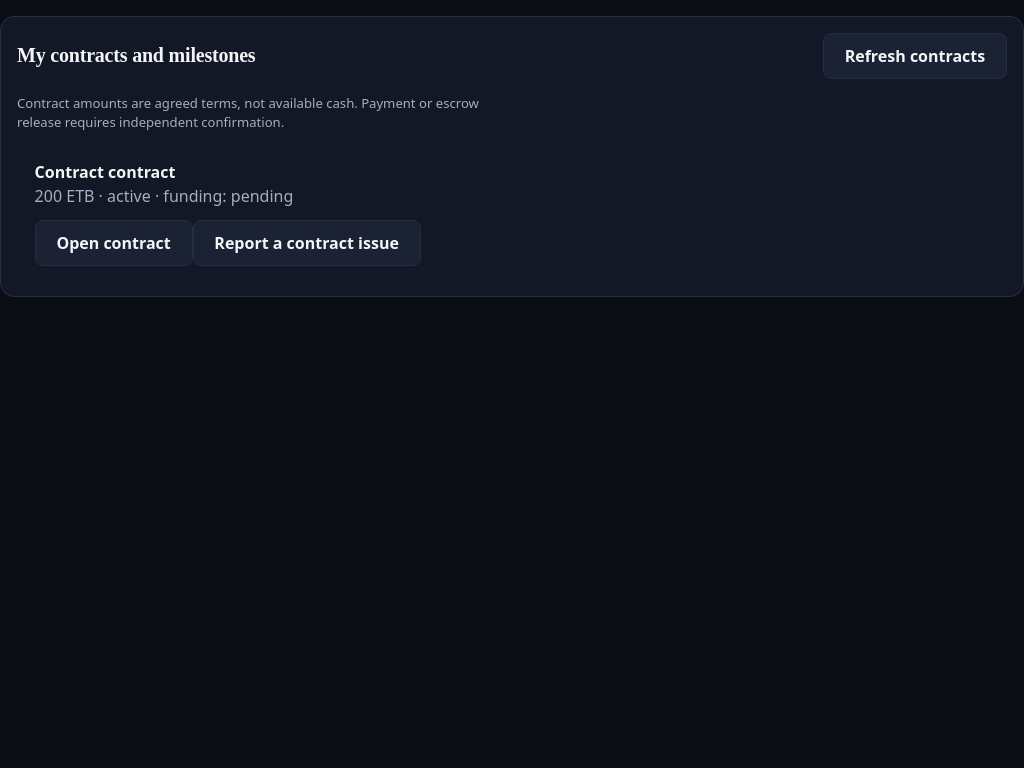
Test: does not offer delivery for a contract without independently held escrow
The image size is (1024, 768).
Click the button "Open contract": x=114, y=243 [35,220,193,266]
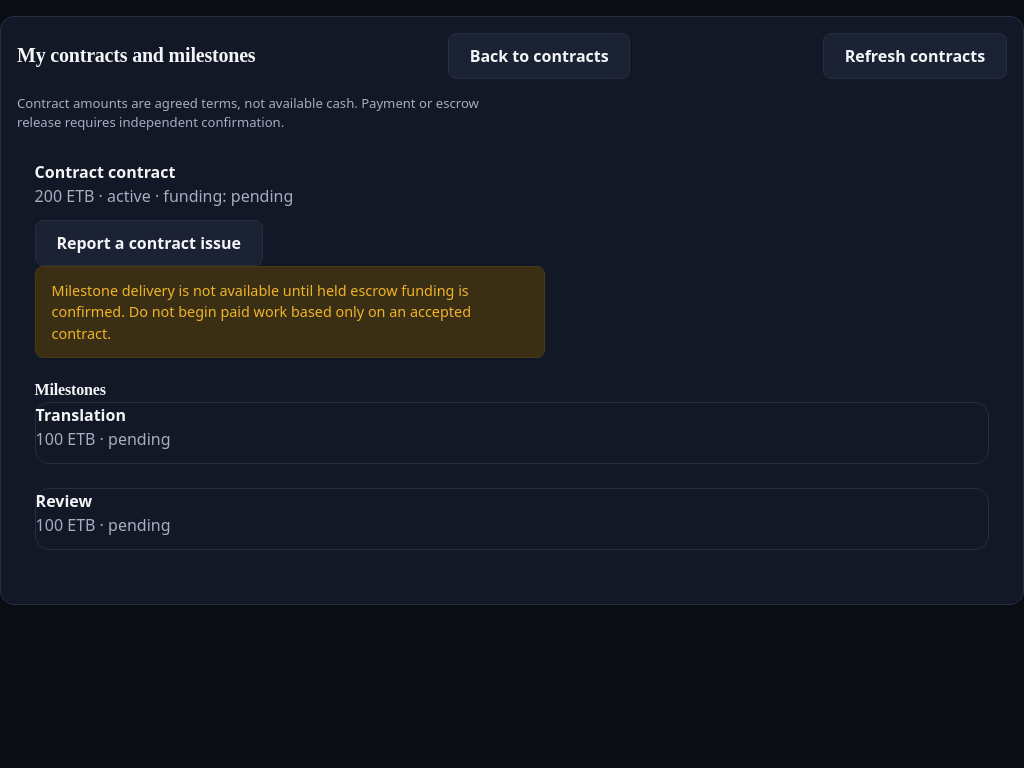
Expected: the text "held escrow funding is confirmed" is shown, [52,281,471,343]
